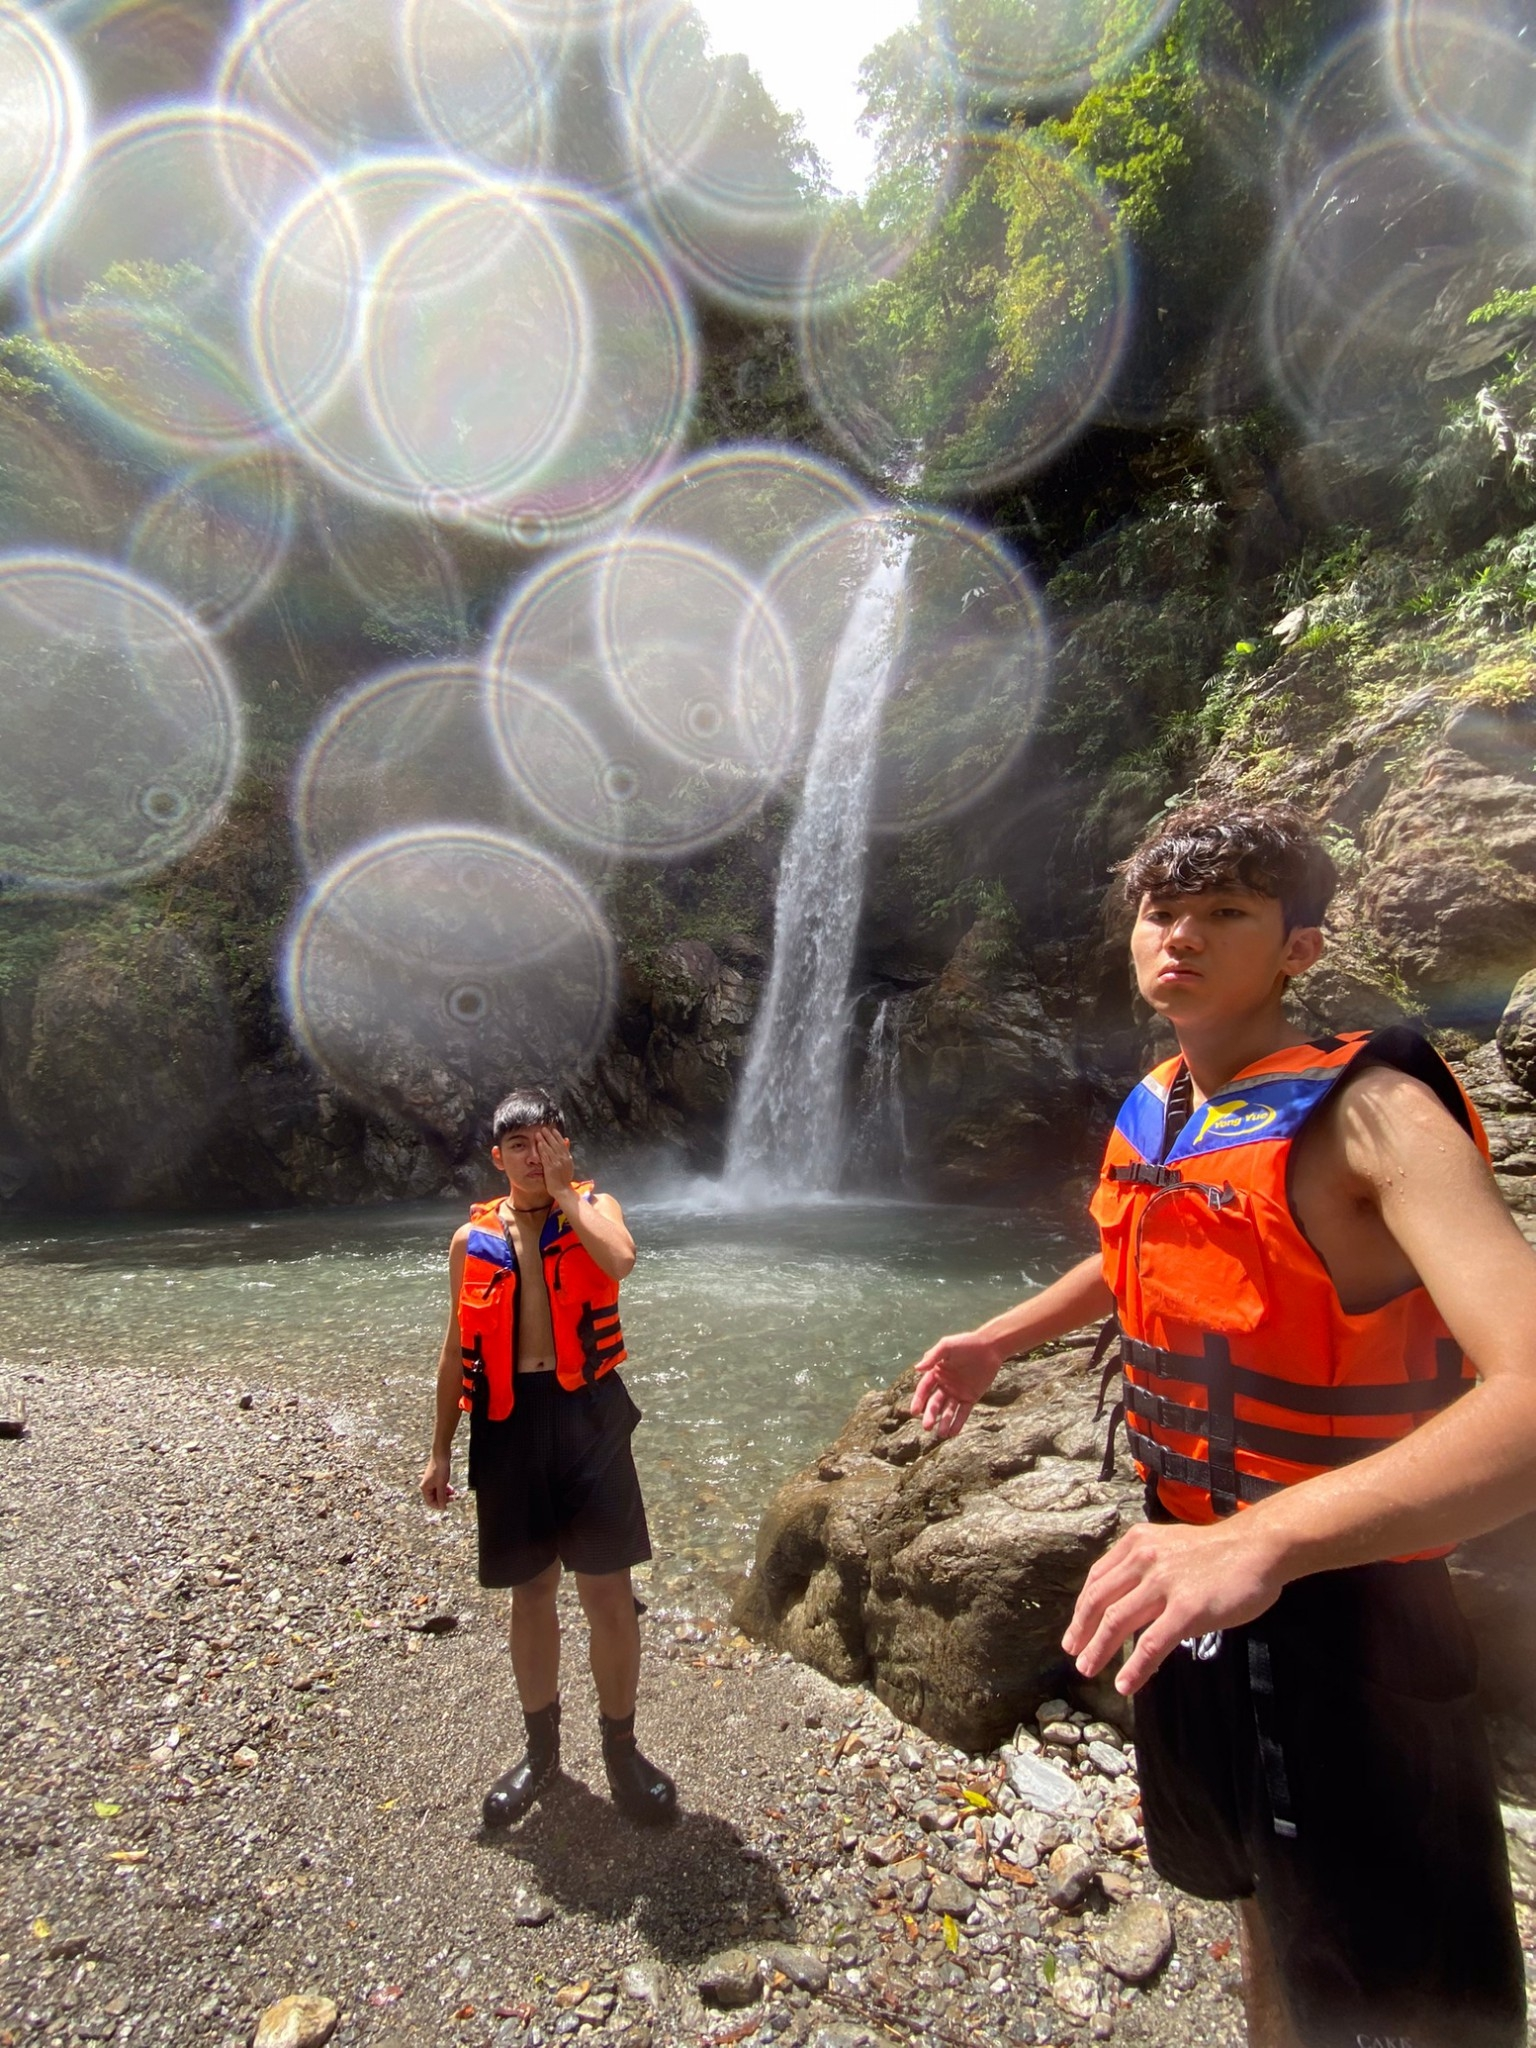people: (1066, 812, 1518, 2048), (466, 1105, 676, 1822)
